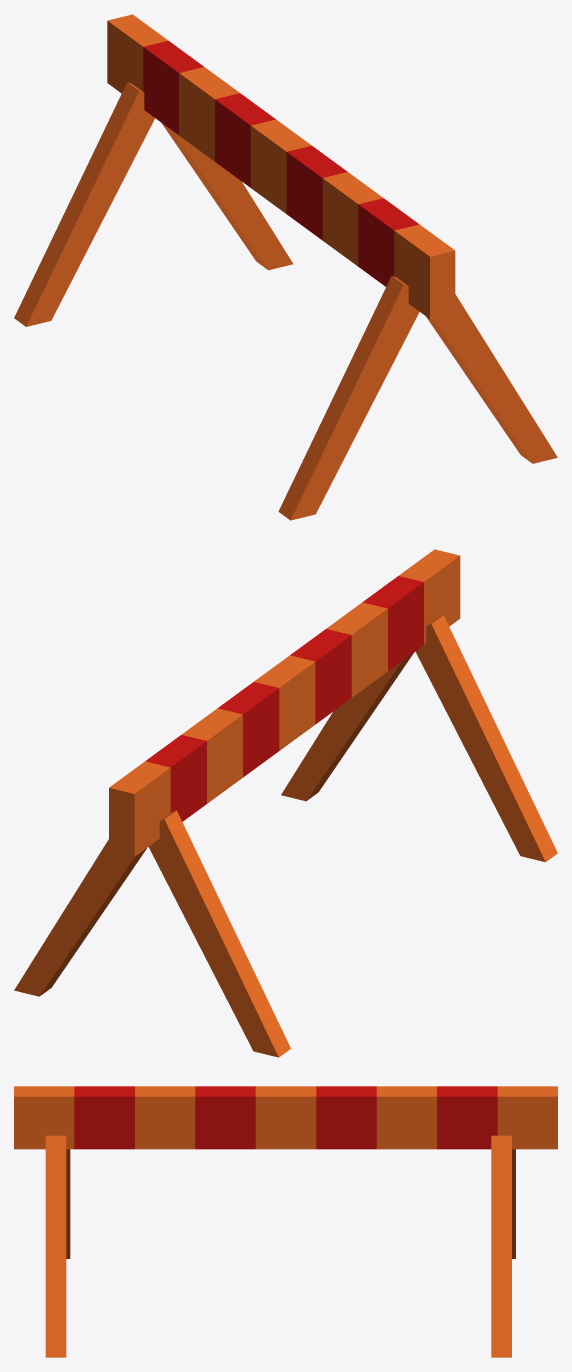
File: Fence_01.FBX
3 renders of one model, top to bottom at view 1: azimuth 30°, elevation 25°; view 2: azimuth 150°, elevation 25°; view 3: azimuth 270°, elevation 25°, orthographic. The views are drawn at different scales.
Visible parts, largest first — view 1: Fence_01; view 2: Fence_01; view 3: Fence_01.
Part boxes in pixels (<box>): Fence_01: <box>14,14,557,520</box>; Fence_01: <box>14,549,557,1057</box>; Fence_01: <box>14,1086,557,1357</box>.
Bounding box in the file's own units: 2.31 × 2.09 × 4.88.
